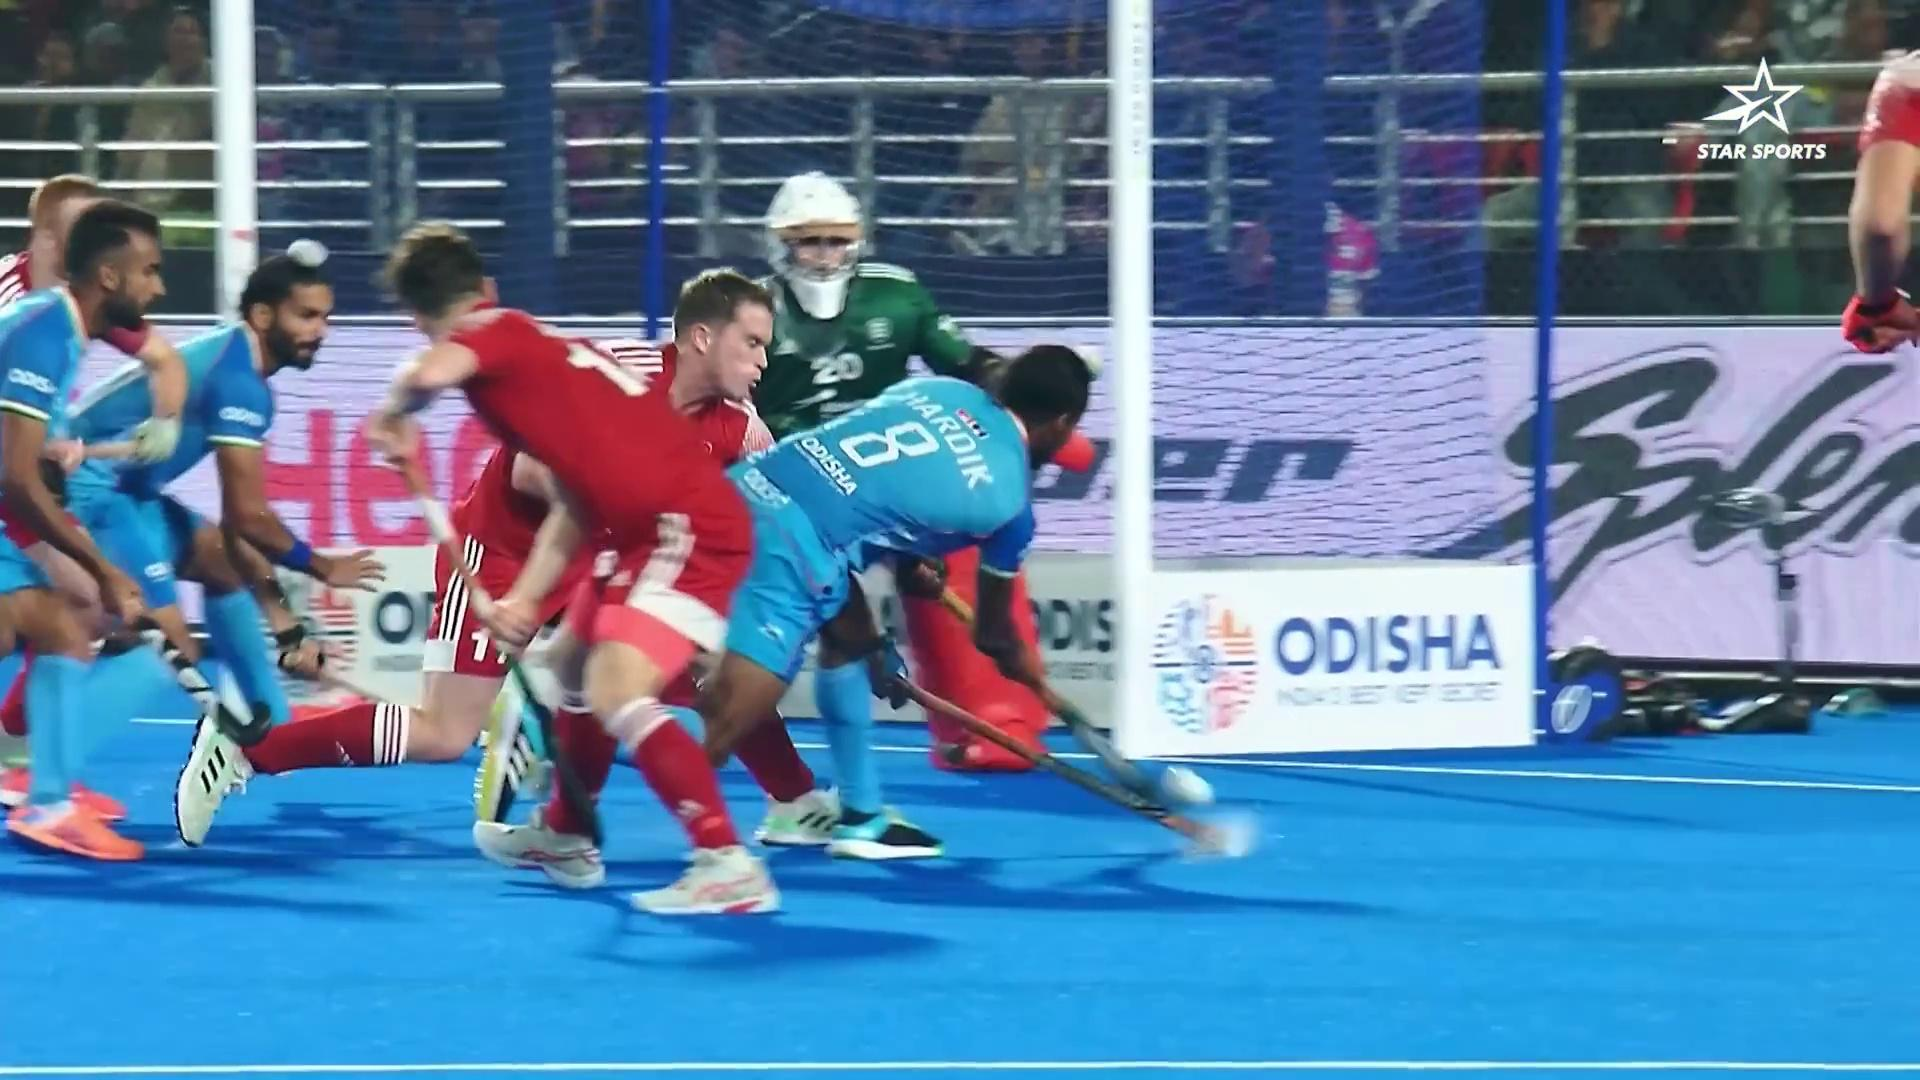ball: (1146, 760, 1224, 819)
